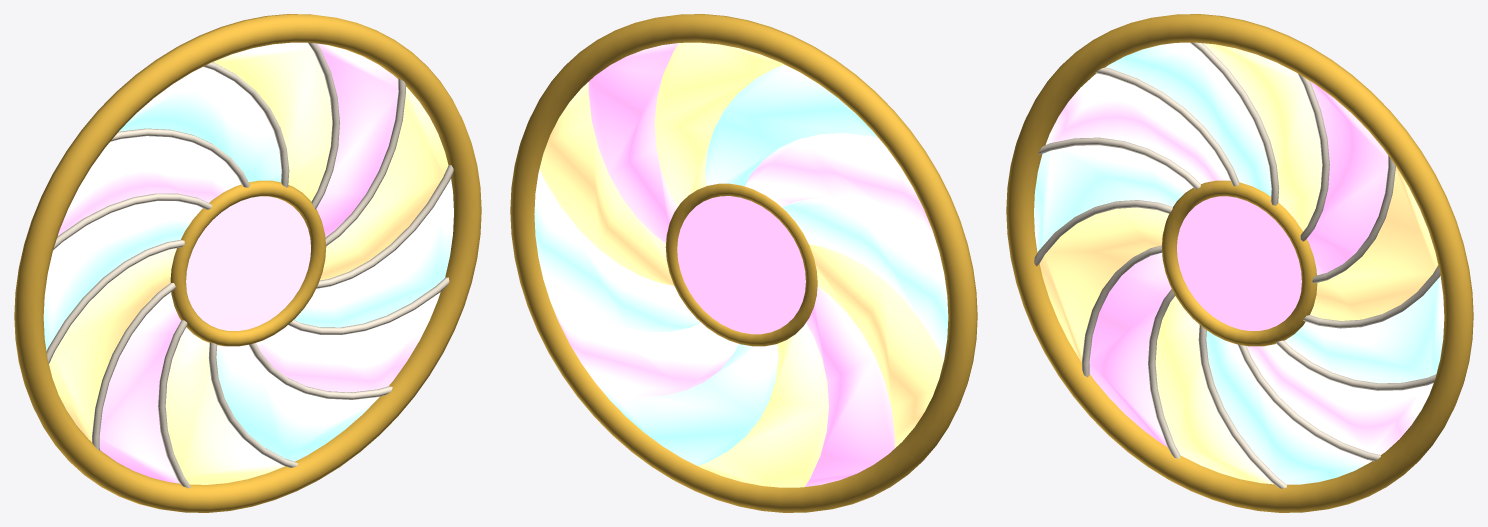
Rendered from candy_rose_window.glb.
3 renders of one model, left to right at view 1: azimuth 30°, elevation 25°; view 2: azimuth 150°, elevation 25°; view 3: azimuth 330°, elevation 25°, orthographic.
Visible parts, largest first — view 1: RoseWindow; view 2: RoseWindow; view 3: RoseWindow.
Part boxes in pixels (x1=…): RoseWindow: x1=14, y1=14, x2=481, y2=512; RoseWindow: x1=510, y1=14, x2=977, y2=512; RoseWindow: x1=1006, y1=14, x2=1473, y2=512.
Bounding box in the file's own units: 12.7 × 12.7 × 0.6657.
